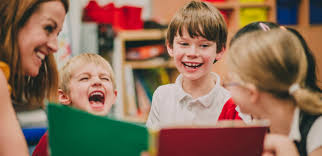person: (153, 1, 226, 102)
